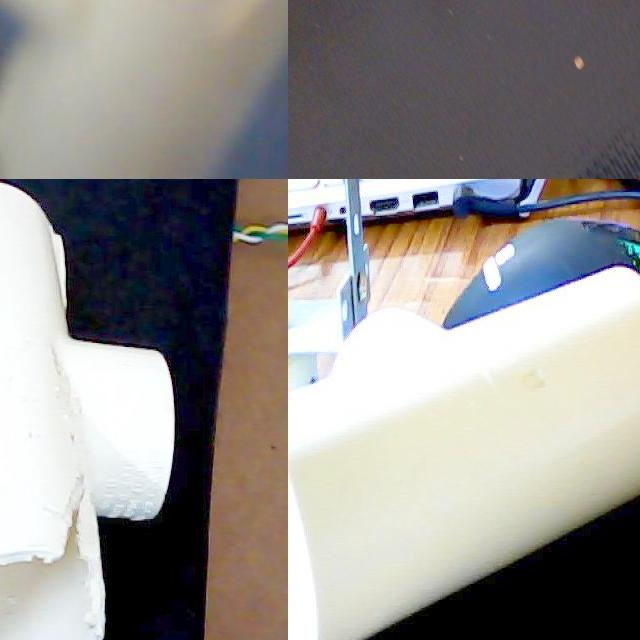Defective: (47, 450, 106, 636), (495, 21, 559, 80), (42, 218, 70, 352), (0, 181, 16, 339)
L Joint: (398, 1, 567, 179)
T Joint: (288, 267, 640, 640), (0, 184, 177, 640)
